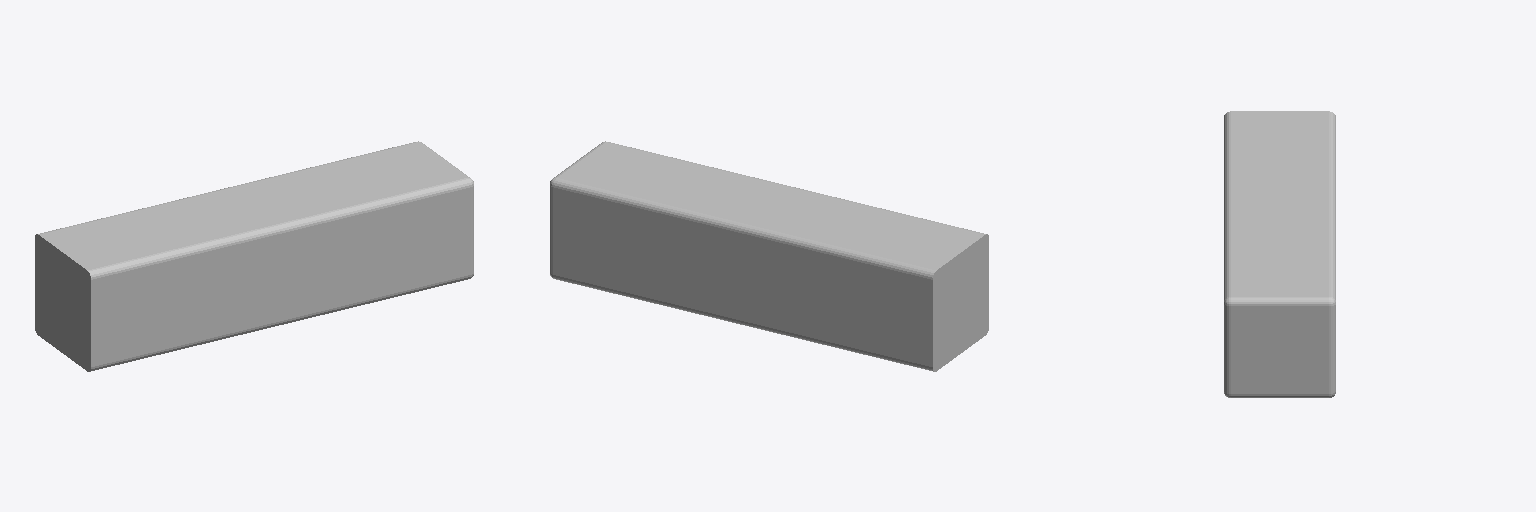
The model's file is light switch stick.obj.
3 renders of one model, left to right at view 1: azimuth 30°, elevation 25°; view 2: azimuth 150°, elevation 25°; view 3: azimuth 270°, elevation 25°, orthographic.
Visible parts, largest first — view 1: Cube; view 2: Cube; view 3: Cube.
Part boxes in pixels (bbox=[...]): Cube: bbox=[35, 141, 473, 371]; Cube: bbox=[550, 141, 988, 371]; Cube: bbox=[1224, 111, 1335, 397].
Size of the model in its own units: 1.2 by 0.3 by 0.3033.